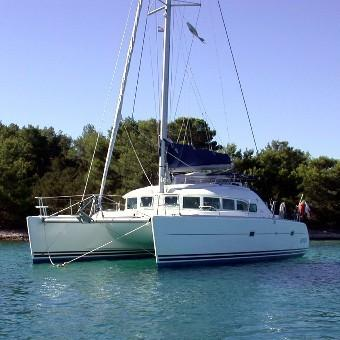Ship: (27, 3, 311, 266)
